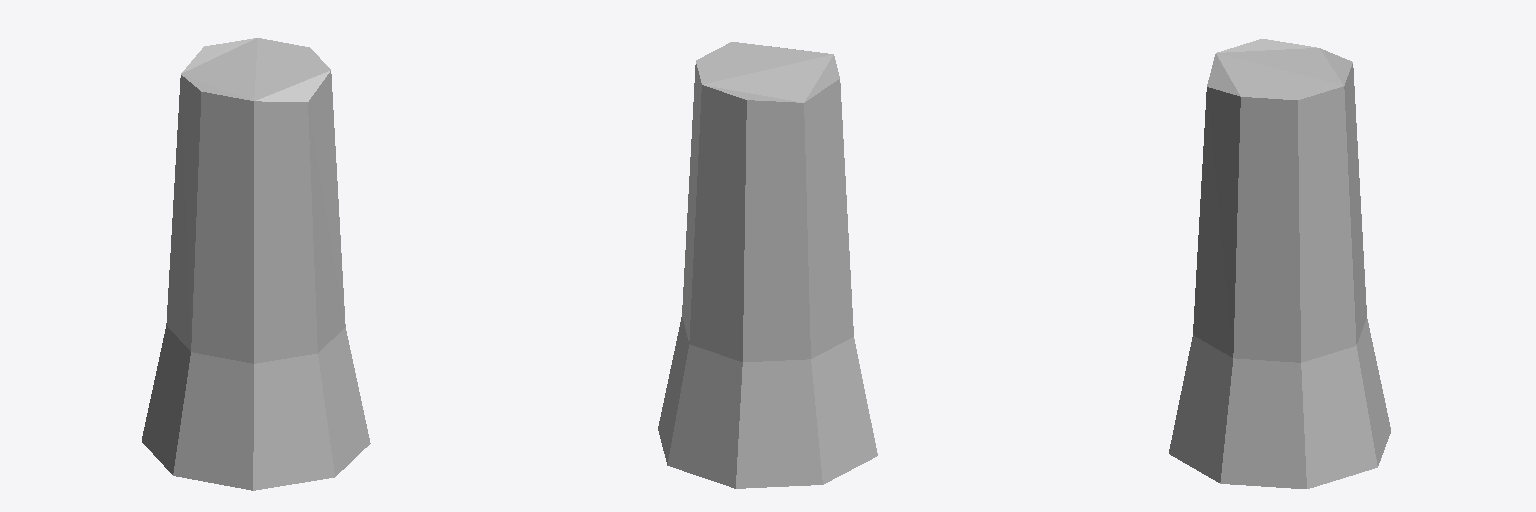
File: basictreestump.obj
3 renders of one model, left to right at view 1: azimuth 30°, elevation 25°; view 2: azimuth 150°, elevation 25°; view 3: azimuth 270°, elevation 25°, orthographic.
Visible parts, largest first — view 1: Arbre_Normal_Cylinder.002; view 2: Arbre_Normal_Cylinder.002; view 3: Arbre_Normal_Cylinder.002.
Boxes of the visible parts, <box> form: Arbre_Normal_Cylinder.002: <box>142,38,370,490</box>; Arbre_Normal_Cylinder.002: <box>658,42,877,488</box>; Arbre_Normal_Cylinder.002: <box>1169,39,1390,488</box>.
Bounding box in the file's own units: 0.5669 × 1.05 × 0.5669.